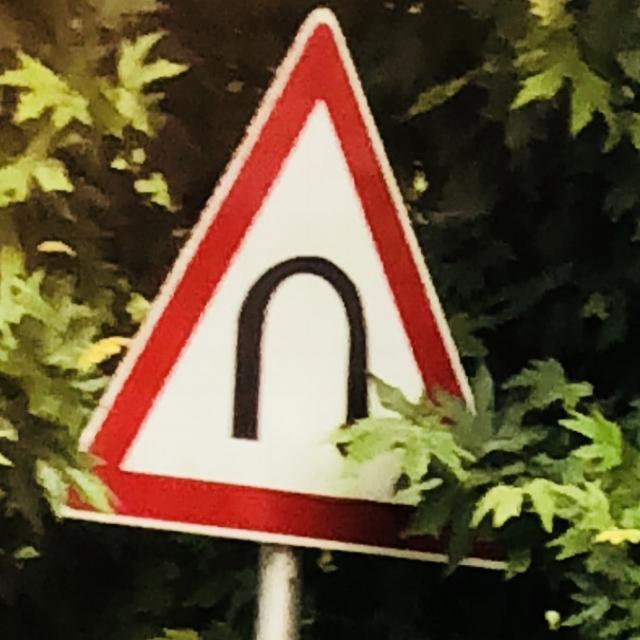u turn: (50, 24, 536, 578)
